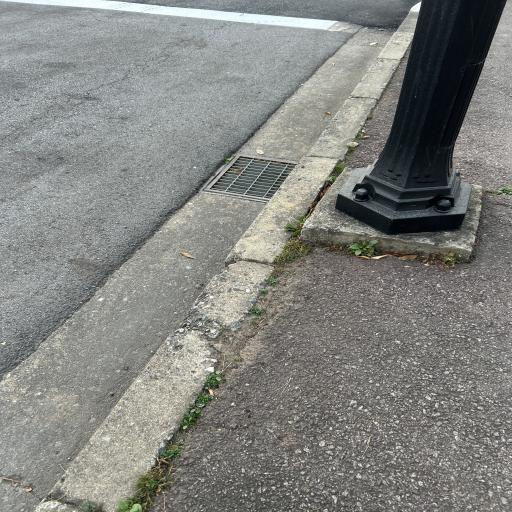drain: (204, 154, 298, 202)
